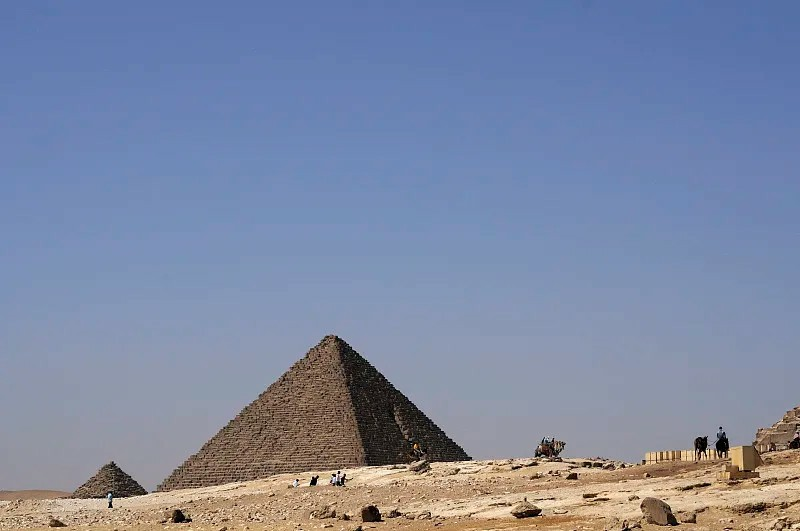Pyramid: (156, 336, 473, 491), (72, 461, 148, 496)
